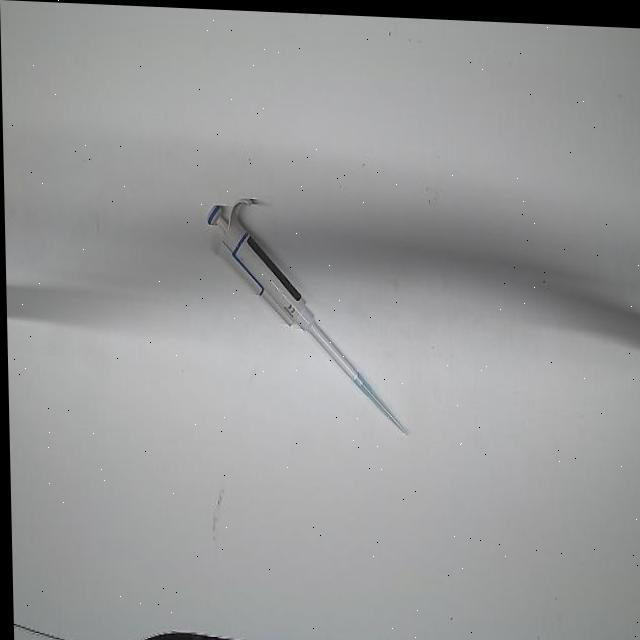Micropipette Tip 1000 uL: (351, 369, 413, 434)
Single Channel Pipettor: (204, 193, 363, 385)
